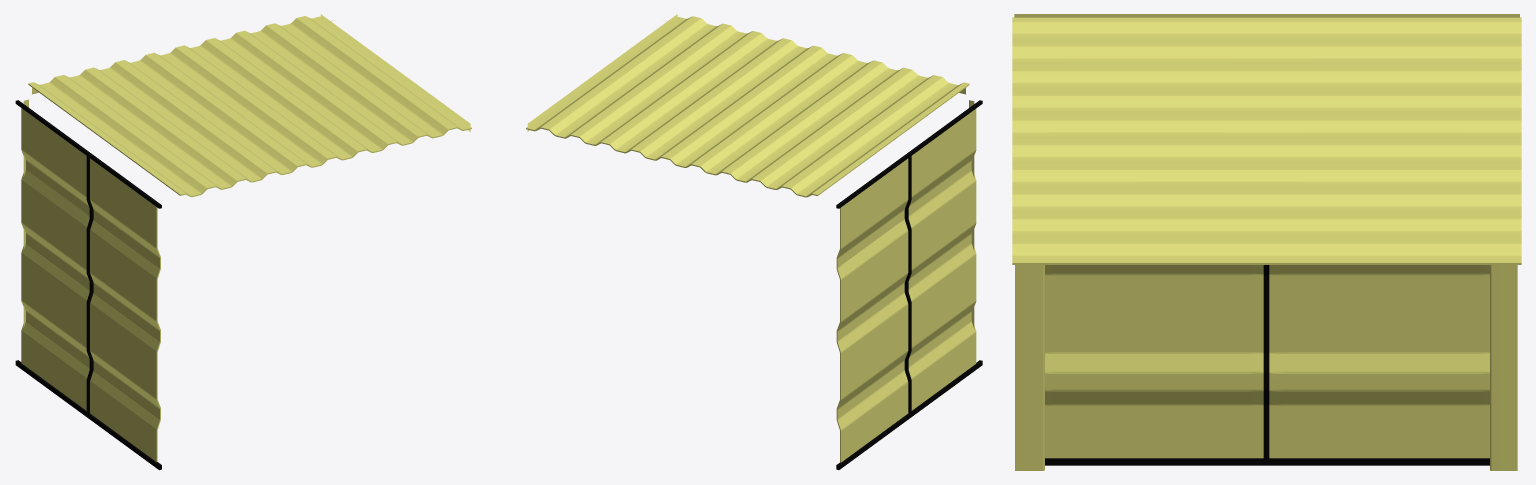
Rendered from rear-top-sprayfoam.glb.
3 renders of one model, left to right at view 1: azimuth 30°, elevation 25°; view 2: azimuth 150°, elevation 25°; view 3: azimuth 270°, elevation 25°, orthographic. The views are drawn at different scales.
Visible parts, largest first — view 1: 10FT Container_Sprayfoam_RearTop; view 2: 10FT Container_Sprayfoam_RearTop; view 3: 10FT Container_Sprayfoam_RearTop.
Boxes of the visible parts, x1,y1,x2,y2 form: 10FT Container_Sprayfoam_RearTop: (15, 14, 471, 470); 10FT Container_Sprayfoam_RearTop: (526, 14, 982, 469); 10FT Container_Sprayfoam_RearTop: (1012, 14, 1521, 470).
Size of the model in its own units: 2.91 by 2.38 by 2.37.
